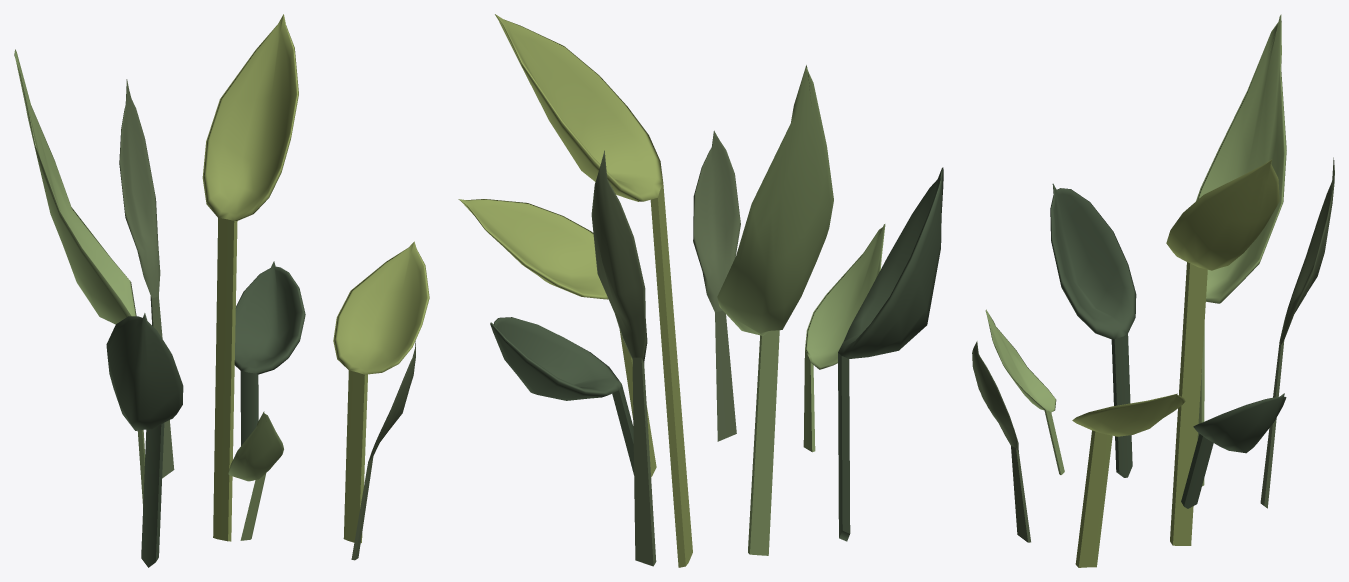
Rendered from Water Weed B.fbx.
3 views of the same model, side by side, from view 1: azimuth 30°, elevation 25°; view 2: azimuth 150°, elevation 25°; view 3: azimuth 270°, elevation 25° (orthographic). The views are drawn at different scales.
Visible parts, largest first — view 1: Weed_B3_pCube49; view 2: Weed_B3_pCube49; view 3: Weed_B3_pCube49.
Boxes of the visible parts, x1=… form: Weed_B3_pCube49: x1=14, y1=14, x2=429, y2=567; Weed_B3_pCube49: x1=458, y1=14, x2=943, y2=567; Weed_B3_pCube49: x1=972, y1=14, x2=1334, y2=567.
Size of the model in its own units: 27.18 by 36.89 by 26.29.
